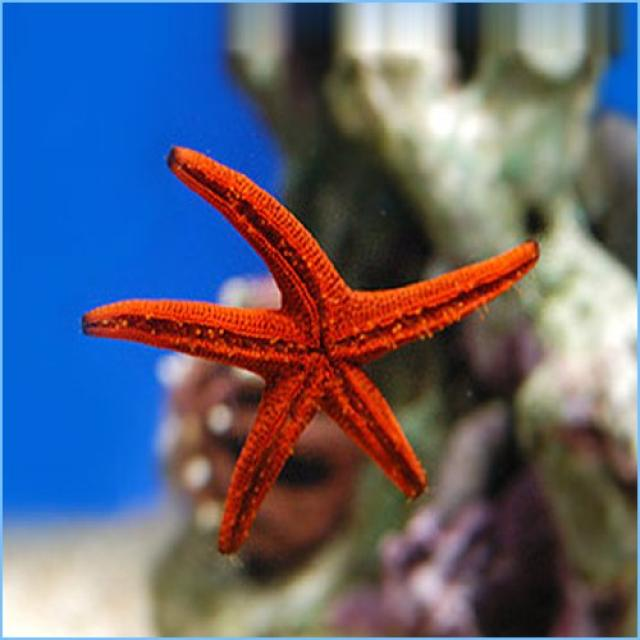starfish: (82, 147, 538, 552)
